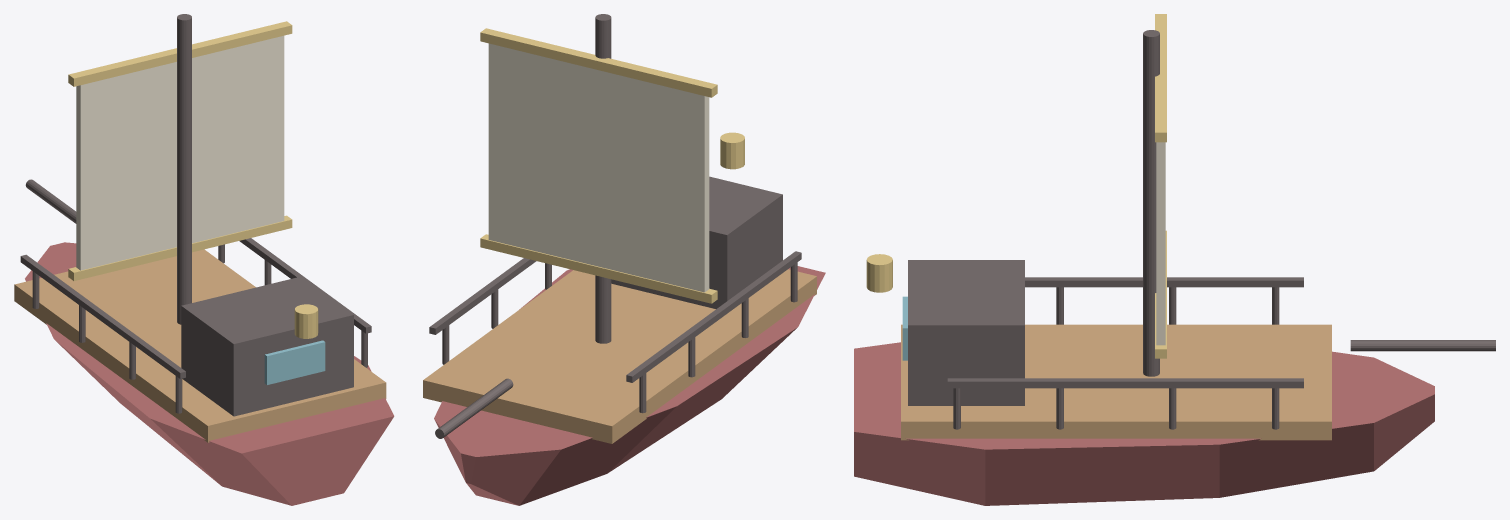
The model's file is east-blue-original-ship-proxy.glb.
The picture shows the model from 3 angles, left to right: view 1: azimuth 30°, elevation 25°; view 2: azimuth 150°, elevation 25°; view 3: azimuth 270°, elevation 25°; orthographic projection. The views are drawn at different scales.
Parts seen in each view (by area): view 1: main_sail, ship_deck, original_sloop_hull, aft_cabin, main_mast, sail_trim_top, sail_trim_bottom, rail_-1, aft_window, rail_1, stern_lantern, bow_spar; view 2: main_sail, ship_deck, original_sloop_hull, aft_cabin, sail_trim_top, sail_trim_bottom, rail_-1, main_mast, rail_1, bow_spar, stern_lantern; view 3: original_sloop_hull, ship_deck, aft_cabin, main_mast, rail_1, rail_-1, main_sail, bow_spar, sail_trim_top, stern_lantern.
Part boxes in pixels (x1,y1,x2,y2): main_sail: (76,35,284,270); ship_deck: (14,249,386,442); original_sloop_hull: (25,242,394,505); aft_cabin: (181,276,353,416); main_mast: (177,14,191,324); sail_trim_top: (68,21,292,86); sail_trim_bottom: (68,215,292,280); rail_-1: (20,254,185,378); aft_window: (264,340,325,384); rail_1: (239,238,371,333); stern_lantern: (294,304,318,338); bow_spar: (25,179,76,223); main_sail: (488,43,709,292); ship_deck: (423,269,816,443); original_sloop_hull: (434,266,825,505); aft_cabin: (611,176,782,308); sail_trim_top: (480,28,717,97); sail_trim_bottom: (480,234,717,303); rail_-1: (626,251,801,382); main_mast: (595,14,611,343); rail_1: (429,258,536,334); bow_spar: (435,378,513,438); stern_lantern: (720,132,744,169); original_sloop_hull: (854,342,1434,505); ship_deck: (901,324,1331,440); aft_cabin: (908,260,1024,405); main_mast: (1143,30,1159,376); rail_1: (947,378,1303,388); rail_-1: (1025,277,1303,287); main_sail: (1156,142,1165,345); bow_spar: (1350,340,1495,351); sail_trim_top: (1155,14,1166,142); stern_lantern: (866,254,892,292).
Size of the model in its own units: 6 by 10.65 by 13.7.
